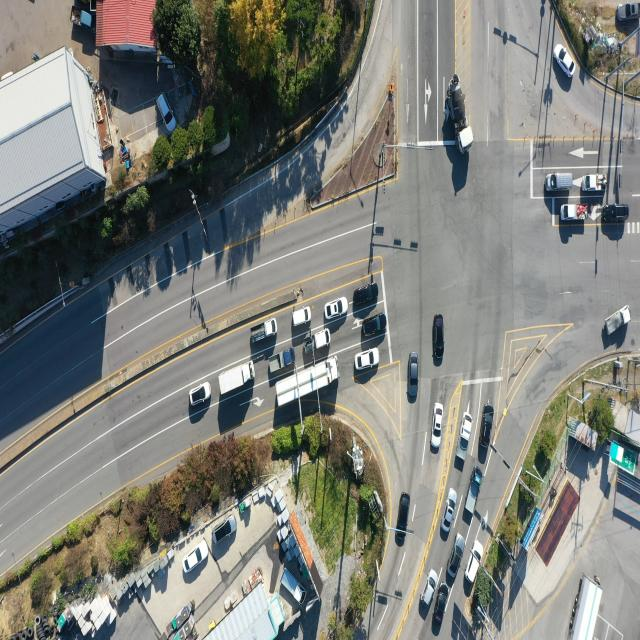car: (183, 536, 208, 580), (467, 542, 486, 586), (448, 534, 466, 578), (158, 91, 176, 131), (443, 490, 459, 534), (421, 569, 439, 607), (603, 201, 629, 227), (213, 518, 236, 547), (361, 316, 386, 341), (432, 316, 444, 368), (354, 348, 380, 371), (352, 282, 378, 305), (553, 41, 572, 72), (432, 587, 448, 623), (546, 172, 574, 192), (398, 492, 410, 538), (188, 382, 210, 407), (482, 402, 494, 447), (409, 353, 420, 402), (324, 298, 347, 320), (432, 404, 443, 450), (616, 1, 640, 21), (291, 307, 311, 328)
medium_truck: (273, 355, 339, 408), (568, 577, 602, 640), (451, 76, 477, 156), (219, 360, 255, 396)
small_truck: (282, 568, 308, 606), (68, 2, 96, 34), (606, 306, 633, 339), (464, 471, 482, 517), (456, 414, 472, 464), (267, 347, 295, 375), (250, 318, 276, 344), (304, 330, 331, 354), (560, 204, 587, 222), (583, 174, 606, 192)
